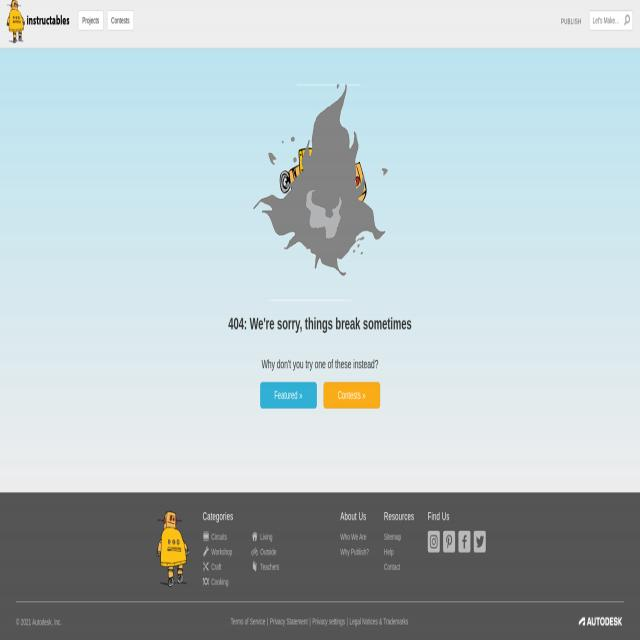button: (156, 506, 193, 594), (7, 0, 72, 43), (260, 382, 316, 408), (324, 382, 380, 408), (576, 610, 624, 633), (106, 10, 134, 31), (78, 10, 104, 31), (428, 529, 441, 554), (443, 529, 456, 554), (458, 529, 471, 554), (474, 530, 486, 554), (623, 12, 633, 28)
field: (590, 10, 632, 30)
